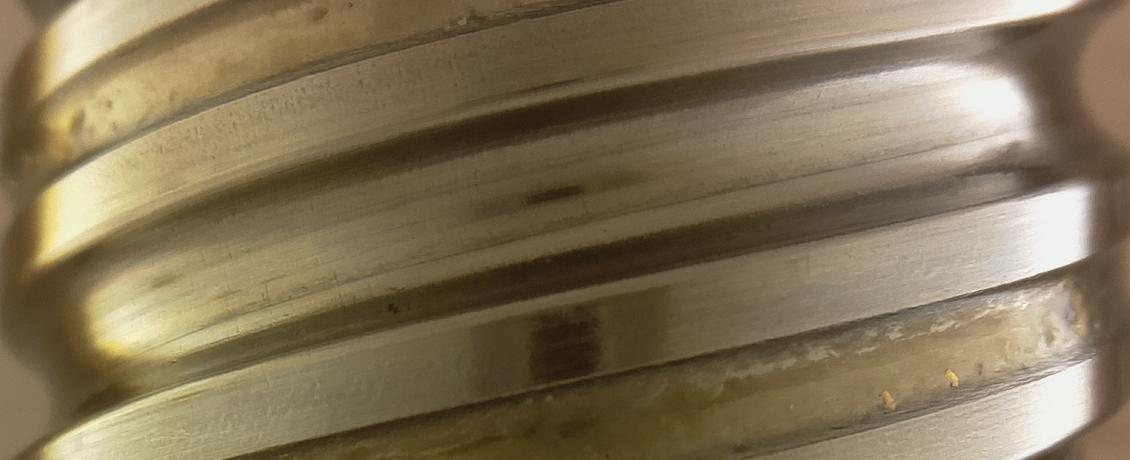pitting: (384, 302, 400, 314)
